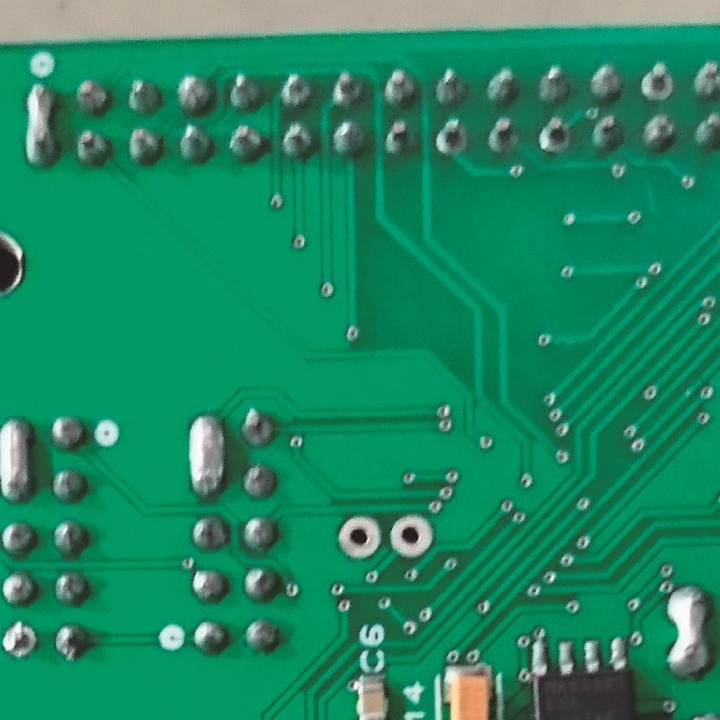F: (335, 513, 383, 560), (387, 514, 433, 561), (434, 116, 470, 160), (1, 618, 37, 661), (537, 115, 573, 158), (639, 62, 674, 101)
P: (660, 580, 715, 671), (180, 412, 230, 501), (1, 410, 42, 502), (21, 80, 57, 166)
